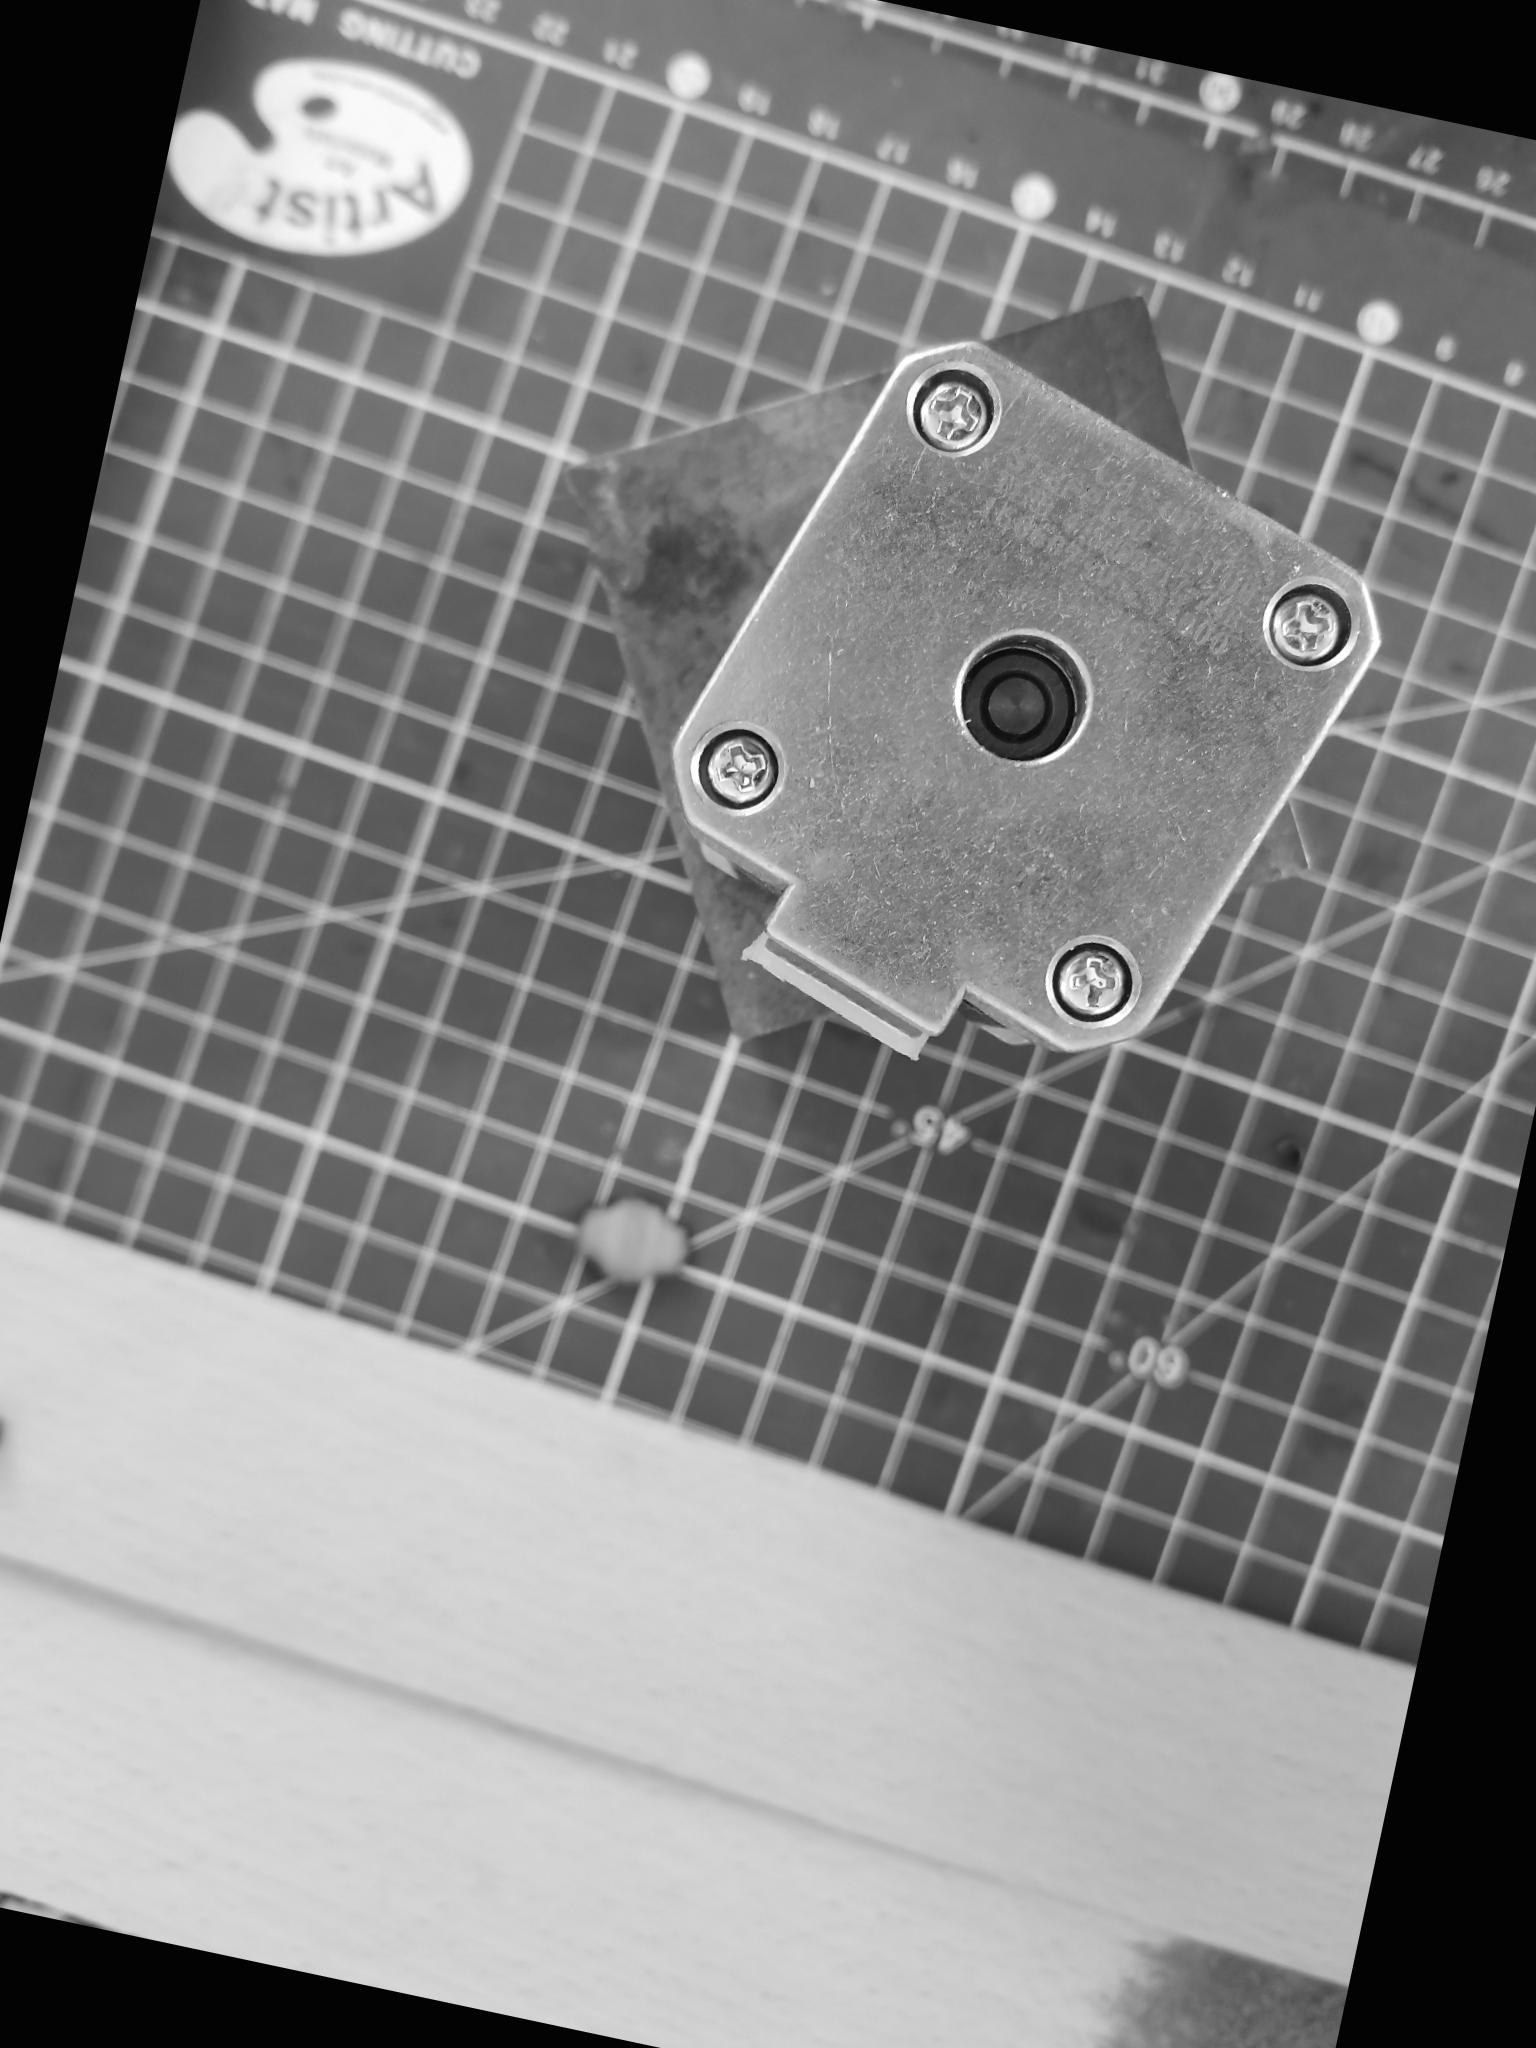philips-PZ: (1252, 569, 1370, 685), (681, 711, 792, 824), (900, 352, 1013, 463), (1042, 922, 1150, 1027)
